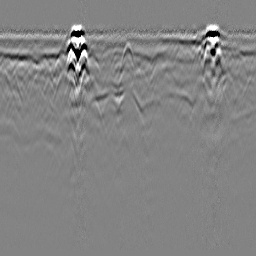cavity: (120, 40, 135, 68)
